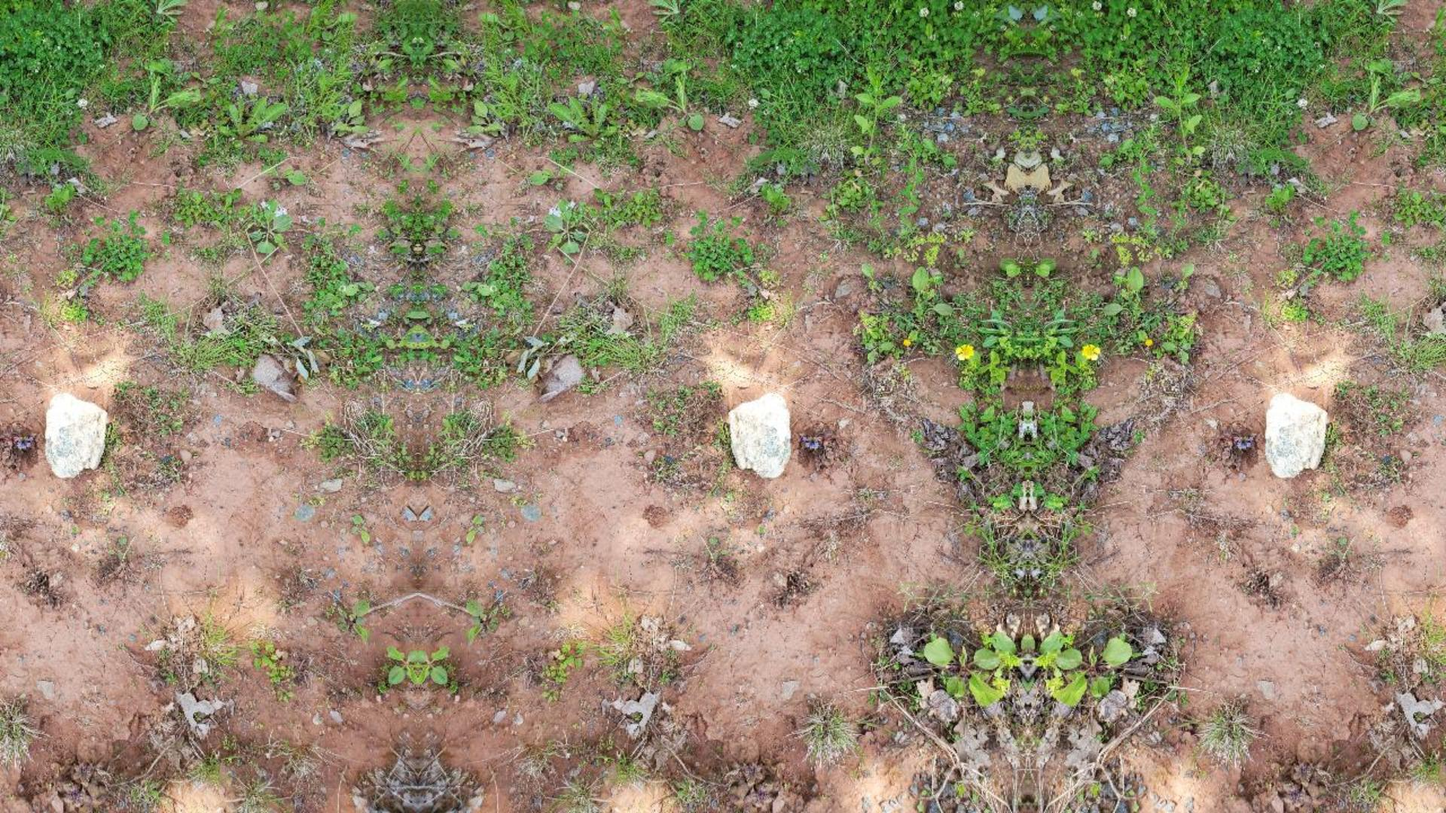rock: (45, 392, 107, 478), (1265, 392, 1327, 478), (729, 393, 790, 478)
